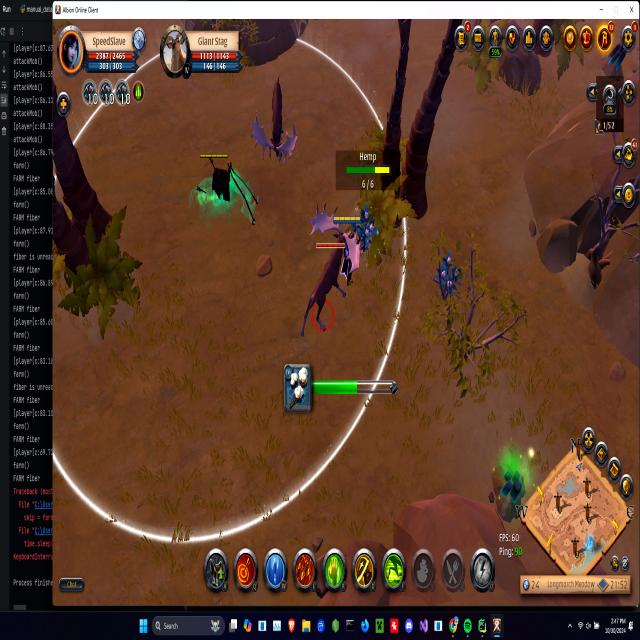hide: (434, 248, 460, 301), (354, 204, 379, 254)
ore: (303, 240, 350, 335), (251, 74, 299, 167)
player: (490, 452, 528, 524), (599, 41, 627, 83)
red: (334, 212, 359, 286)
